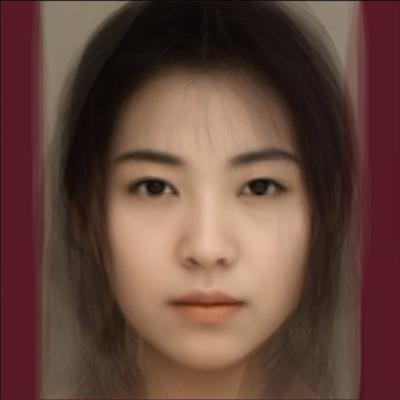netural: (106, 75, 311, 371)
